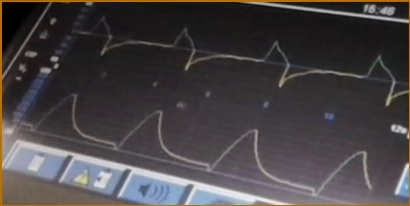Flow: (80, 14, 408, 106)
Leakage Volume: (22, 91, 373, 195)
